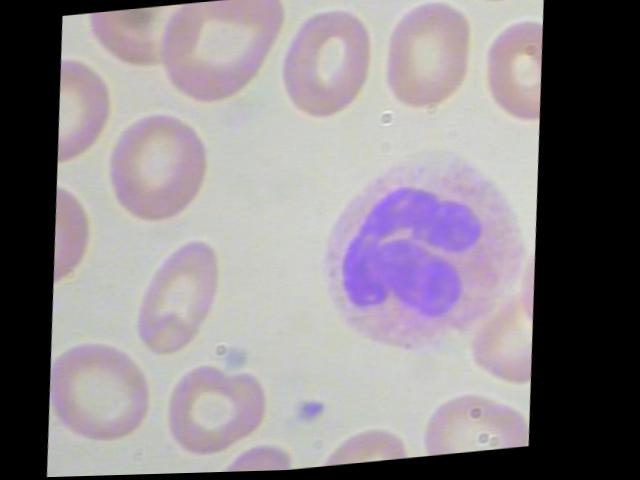Platelets: (300, 394, 341, 436)
Red Blood Cells: (155, 0, 296, 112), (101, 100, 221, 231), (267, 0, 388, 129), (120, 234, 239, 365), (162, 346, 282, 474), (50, 332, 168, 462), (367, 0, 488, 122), (423, 392, 543, 459), (316, 421, 425, 469), (208, 443, 314, 473), (442, 0, 546, 13)
White Blood Cells: (298, 132, 546, 370)
